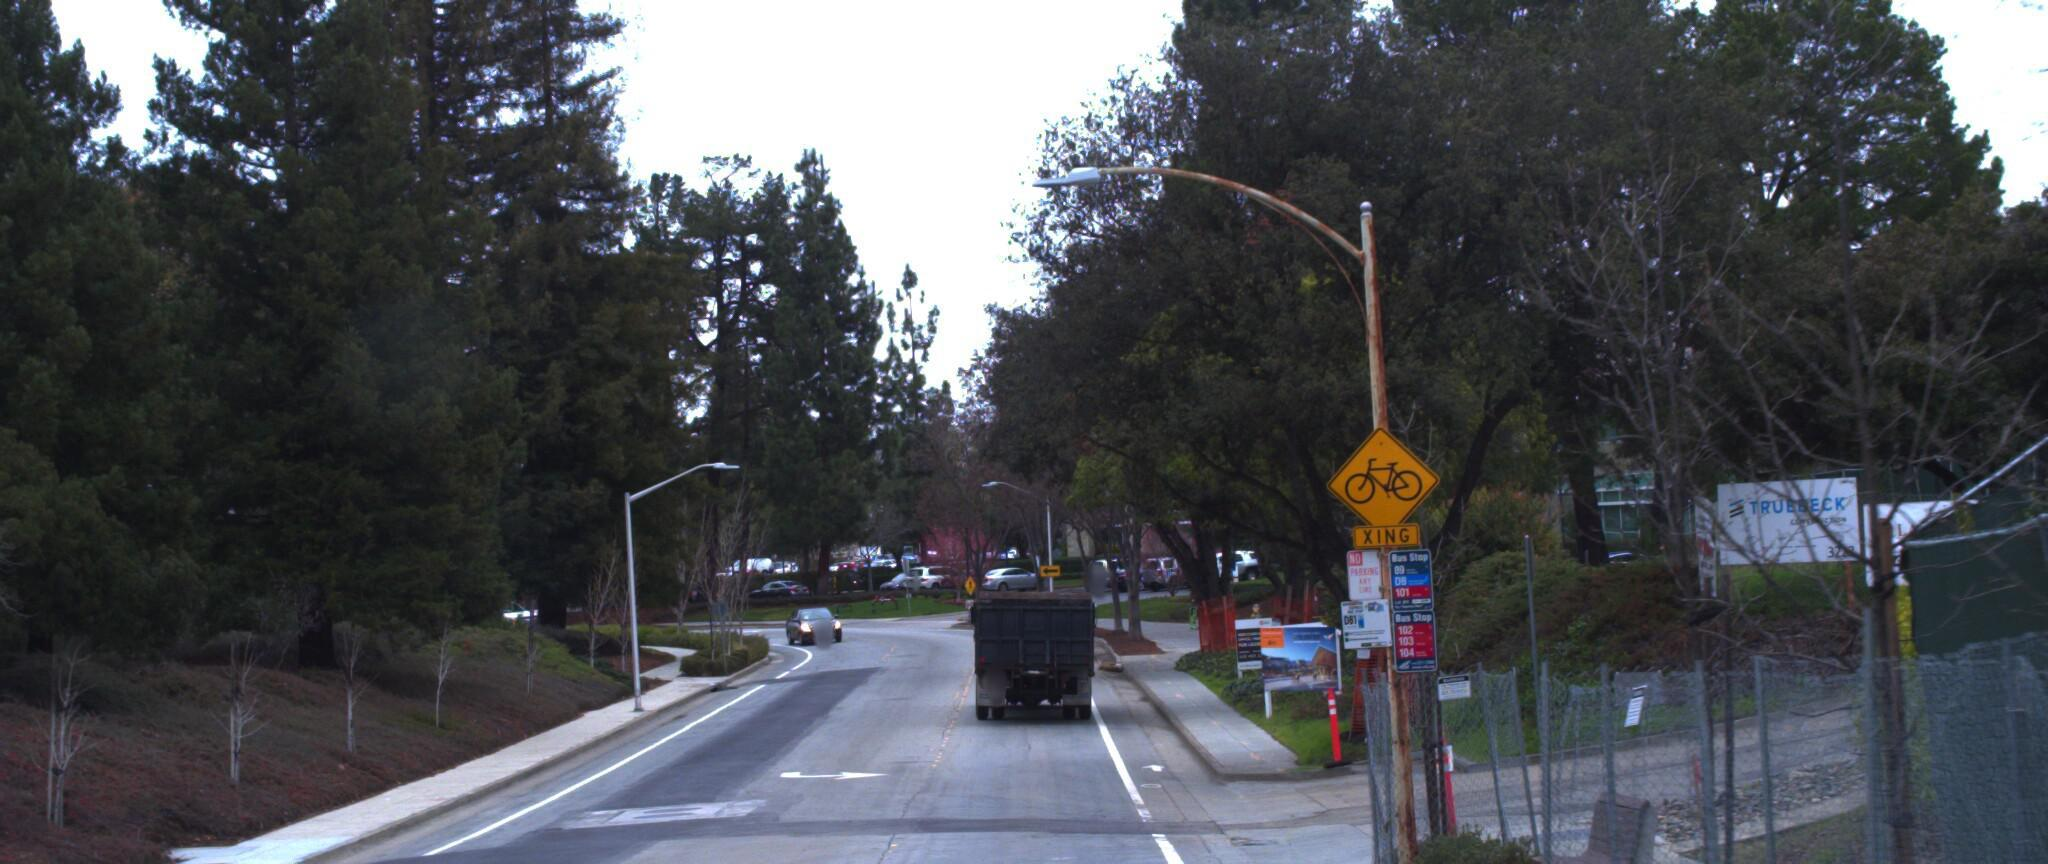truck: (963, 553, 1108, 726)
